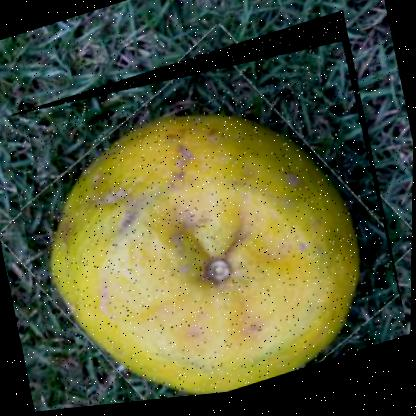orange_rotten: (0, 10, 413, 415)
